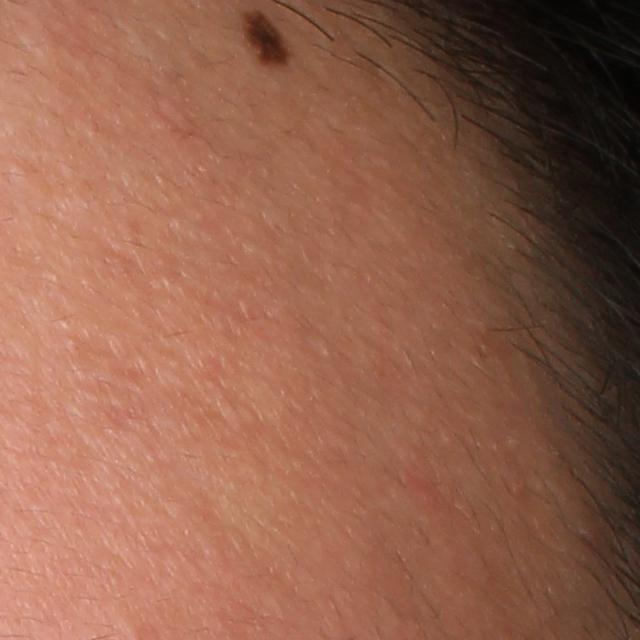nevus: (239, 4, 296, 73)
